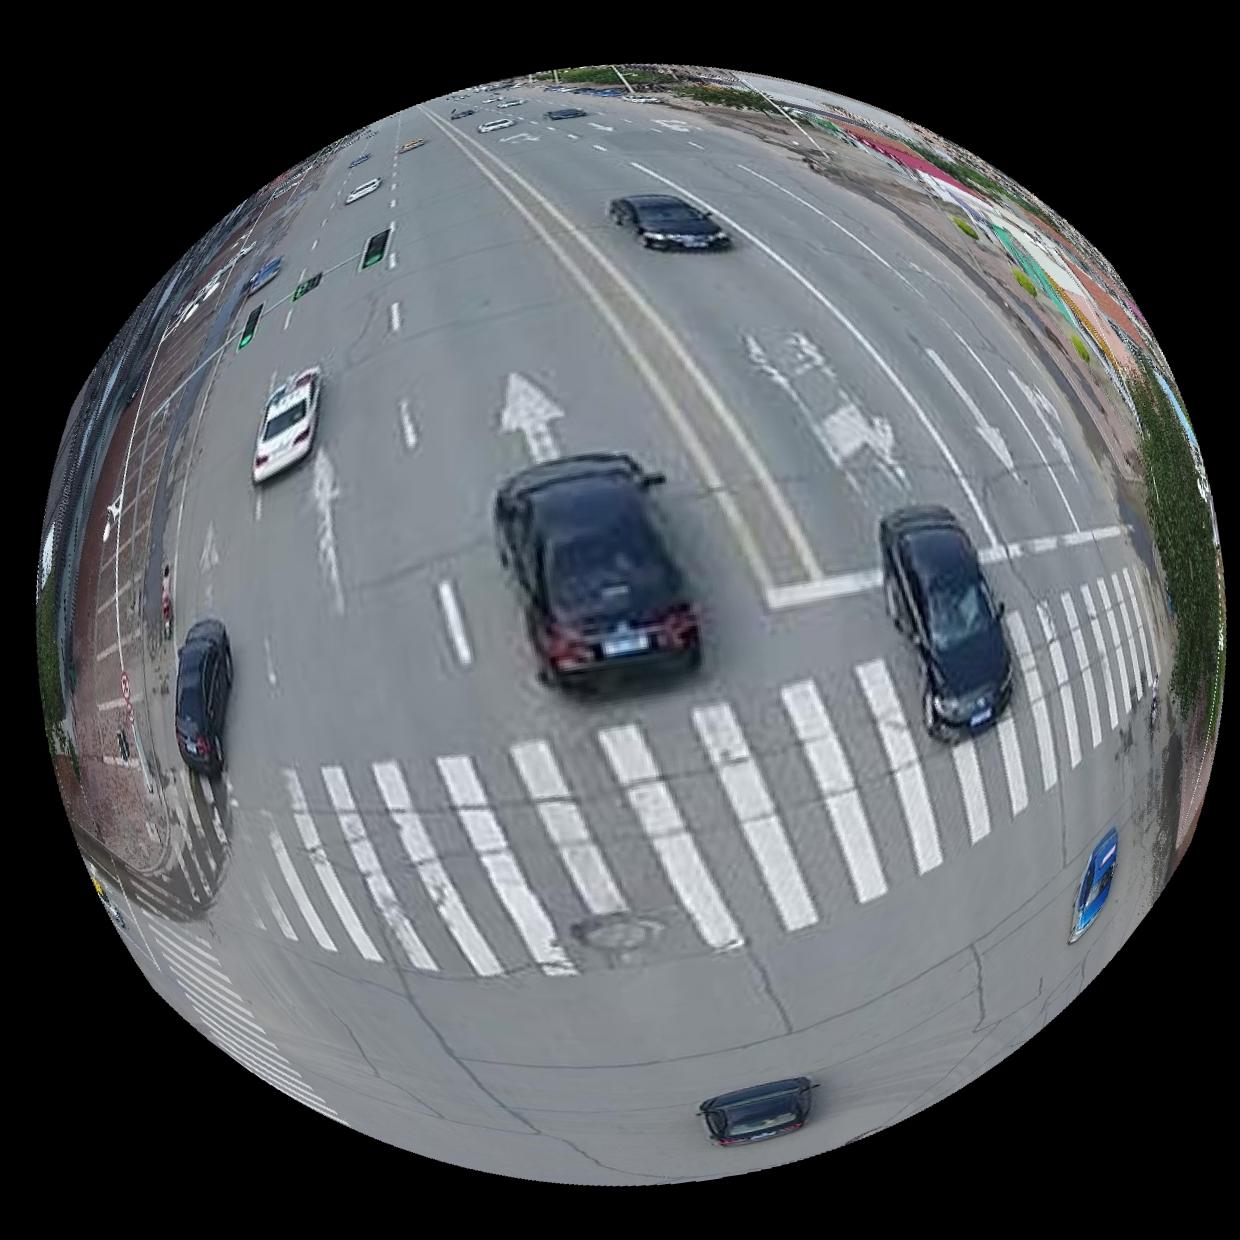cars: (494, 453, 702, 690), (880, 506, 1013, 743), (173, 619, 232, 778), (697, 1079, 818, 1149), (251, 367, 319, 483), (609, 193, 730, 251), (1070, 829, 1121, 945)
trees: (1126, 351, 1226, 739)
